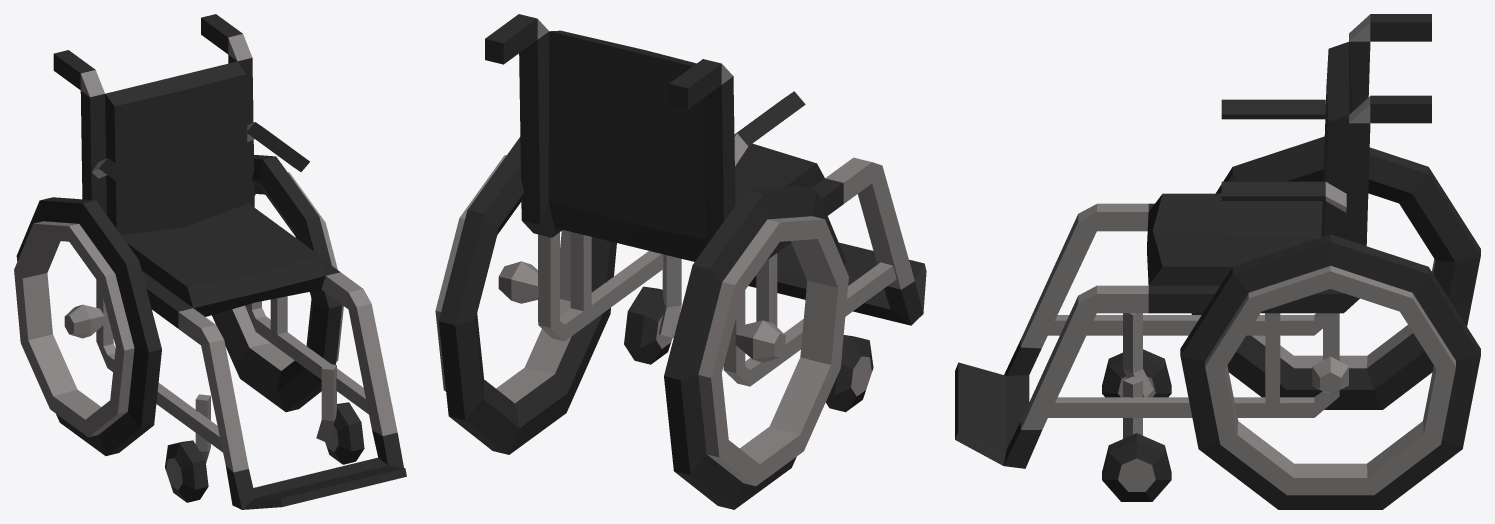
The model's file is wheelchair.glb.
3 views of the same model, side by side, from view 1: azimuth 30°, elevation 25°; view 2: azimuth 150°, elevation 25°; view 3: azimuth 270°, elevation 25° (orthographic). The views are drawn at different scales.
Parts seen in each view (by area): view 1: wheelchair; view 2: wheelchair; view 3: wheelchair.
Part boxes in pixels (bbox=[...]): wheelchair: bbox=[14, 14, 406, 509]; wheelchair: bbox=[435, 14, 926, 509]; wheelchair: bbox=[955, 14, 1480, 509].
Bounding box in the file's own units: 0.704 × 1.07 × 1.28.
1 material, 1 textured.
